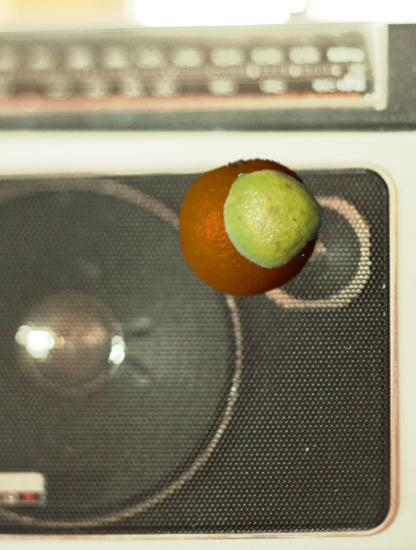Limes: (219, 164, 323, 268)
Orange: (178, 156, 320, 298)
